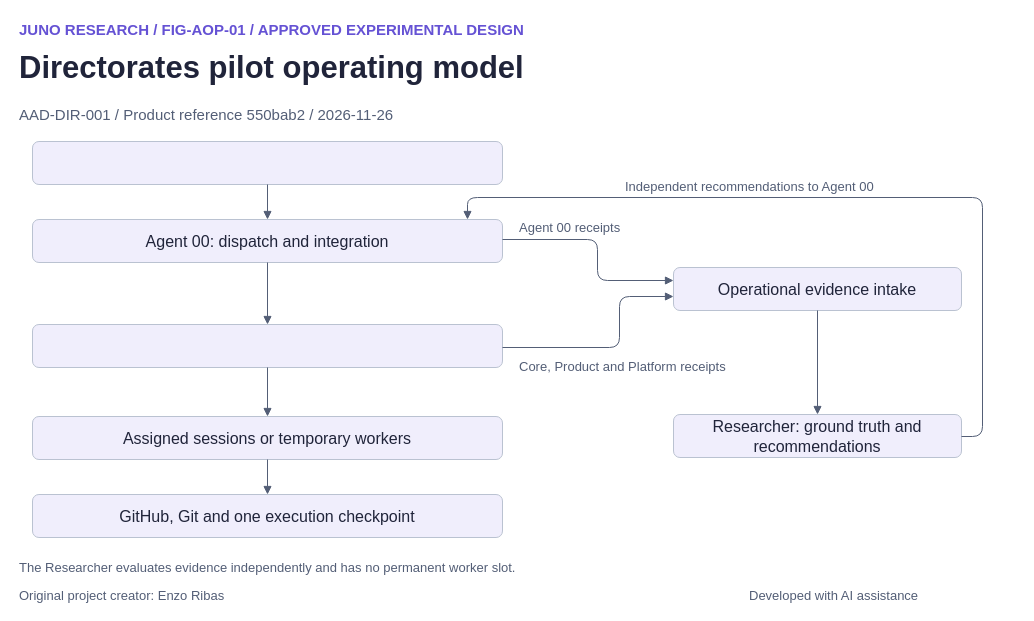
This 1034x621 diagram has some shape labels left out. Each missing label, with the centre of its shape:
Agent 01: Core | Agent 02: Product | Agent 03: Platform: (267,346)
Maintainer: scope and protected decisions: (267,162)
